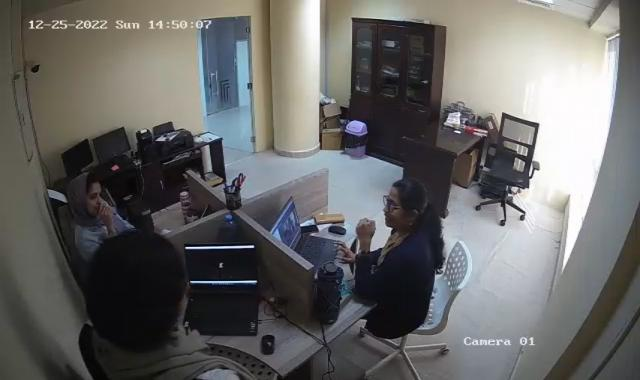no_hairnet: (84, 231, 180, 348), (380, 174, 426, 229), (66, 173, 102, 222)
